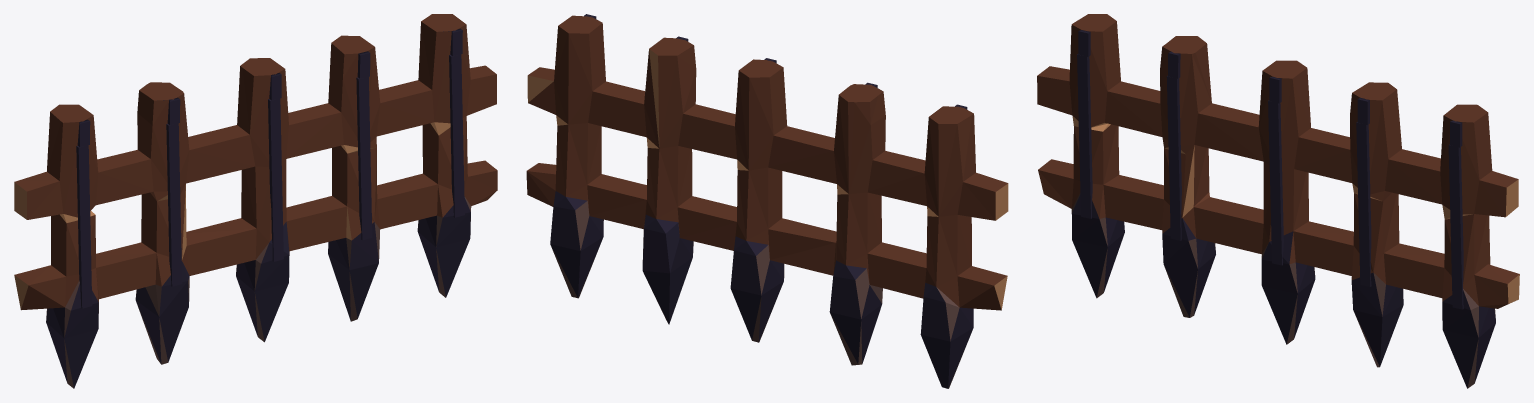
File: MCastle_Gates_03.FBX
The picture shows the model from 3 angles, left to right: view 1: azimuth 30°, elevation 25°; view 2: azimuth 150°, elevation 25°; view 3: azimuth 330°, elevation 25°; orthographic projection.
Parts seen in each view (by area): view 1: MCastle_Gates_03_LOD0; view 2: MCastle_Gates_03_LOD0; view 3: MCastle_Gates_03_LOD0.
Part boxes in pixels (x1,y1,x2,y2): MCastle_Gates_03_LOD0: (14, 14, 497, 388); MCastle_Gates_03_LOD0: (526, 14, 1008, 388); MCastle_Gates_03_LOD0: (1037, 14, 1519, 388).
Size of what is drawn, in the model's own units: 3.21 by 1.81 by 0.3135.
